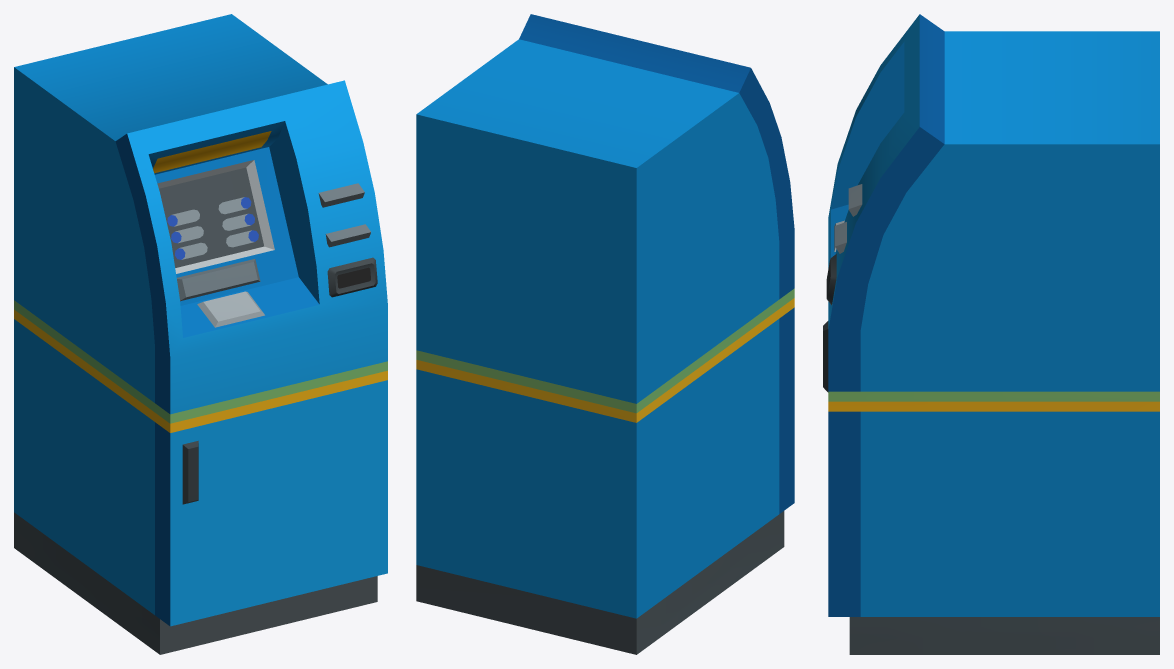
File: atm_01.glb
The picture shows the model from 3 angles, left to right: view 1: azimuth 30°, elevation 25°; view 2: azimuth 150°, elevation 25°; view 3: azimuth 270°, elevation 25°; orthographic projection. The views are drawn at different scales.
Parts seen in each view (by area): view 1: ATM_01; view 2: ATM_01; view 3: ATM_01.
Part boxes in pixels (<box>): ATM_01: <box>14,14,387,654</box>; ATM_01: <box>416,14,794,654</box>; ATM_01: <box>823,14,1159,654</box>.
Size of the model in its own units: 0.7923 by 1.73 by 0.9999.
Materials: 2 (2 with a texture image).
